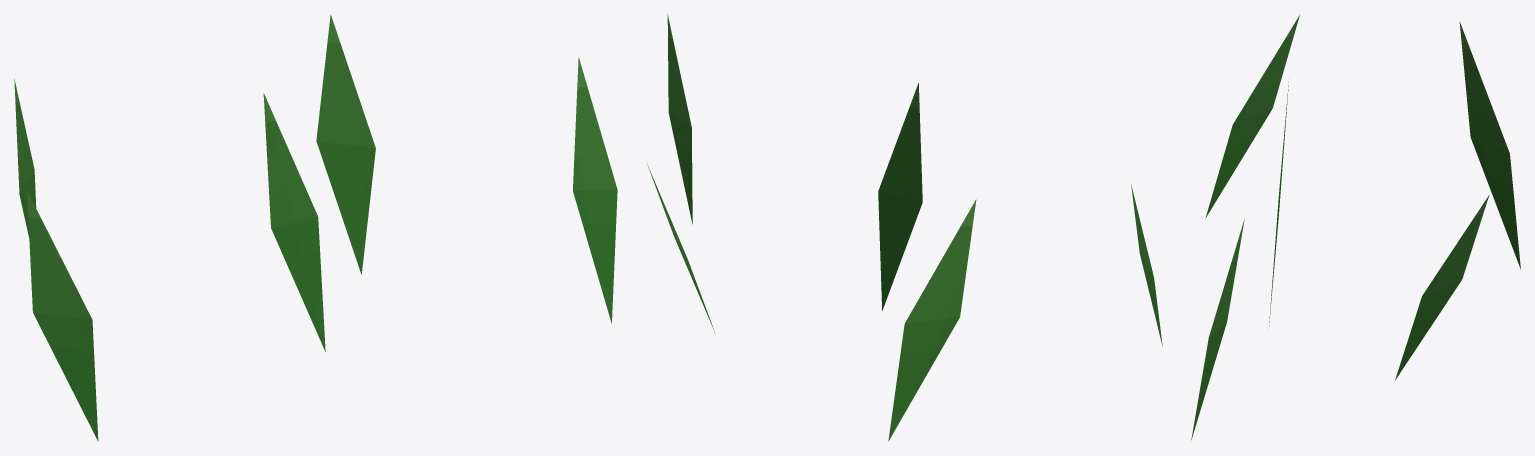
File: plants_me_turf_grass01.gltf
3 views of the same model, side by side, from view 1: azimuth 30°, elevation 25°; view 2: azimuth 150°, elevation 25°; view 3: azimuth 270°, elevation 25° (orthographic). The views are drawn at different scales.
Parts seen in each view (by area): view 1: um_plants_me_turf_grass01_model_plants_me_turf_grass01_model; view 2: um_plants_me_turf_grass01_model_plants_me_turf_grass01_model; view 3: um_plants_me_turf_grass01_model_plants_me_turf_grass01_model.
Boxes of the visible parts, x1,y1,x2,y2 form: um_plants_me_turf_grass01_model_plants_me_turf_grass01_model: (14,15,617,441); um_plants_me_turf_grass01_model_plants_me_turf_grass01_model: (647,14,1162,441); um_plants_me_turf_grass01_model_plants_me_turf_grass01_model: (1191,15,1520,439).
Bounding box in the file's own units: 0.5447 × 0.25 × 0.3136.
1 material, 1 textured.
